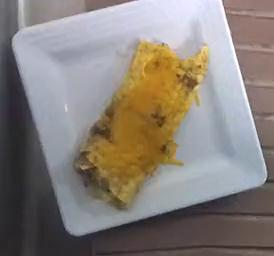omelette: (73, 40, 207, 206)
